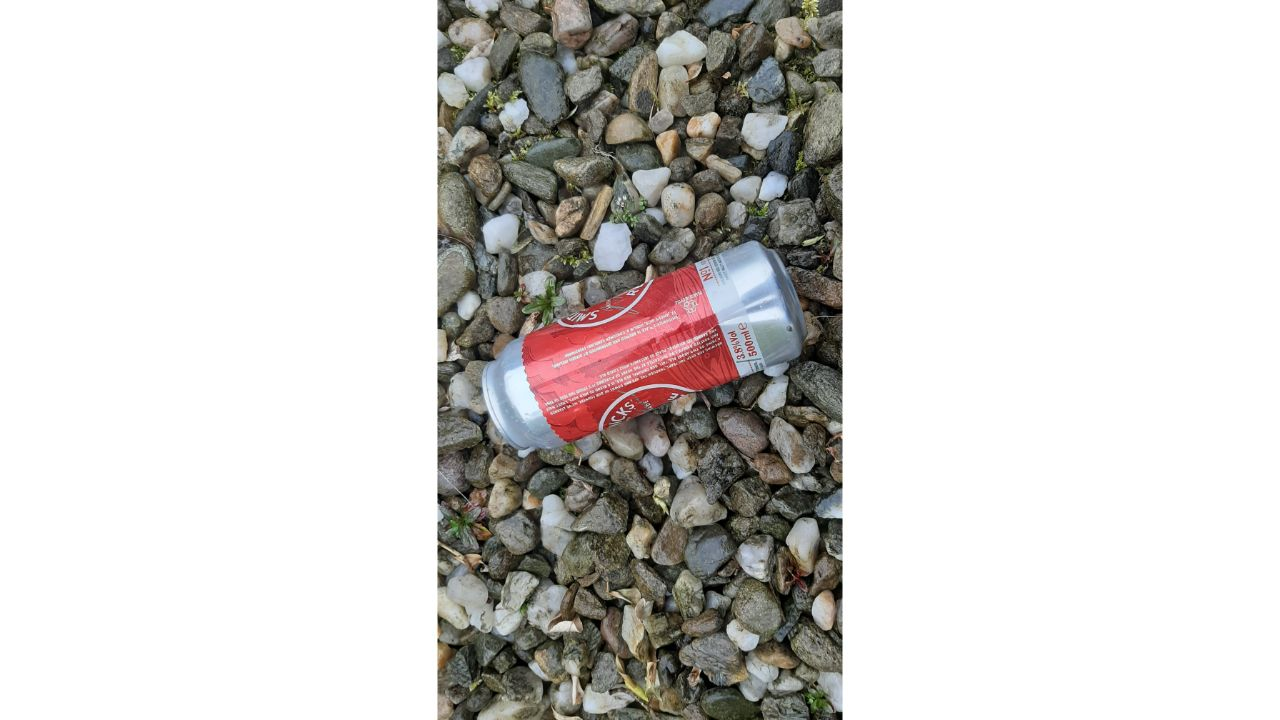Can: (478, 244, 805, 451)
